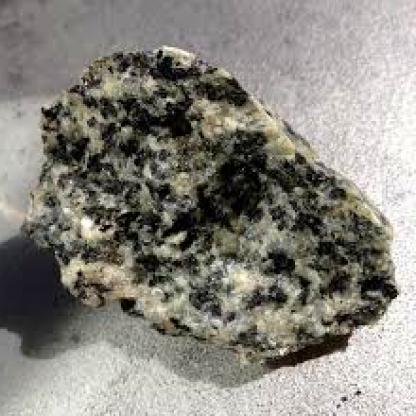Igneous_Diorite: (23, 30, 410, 371)
